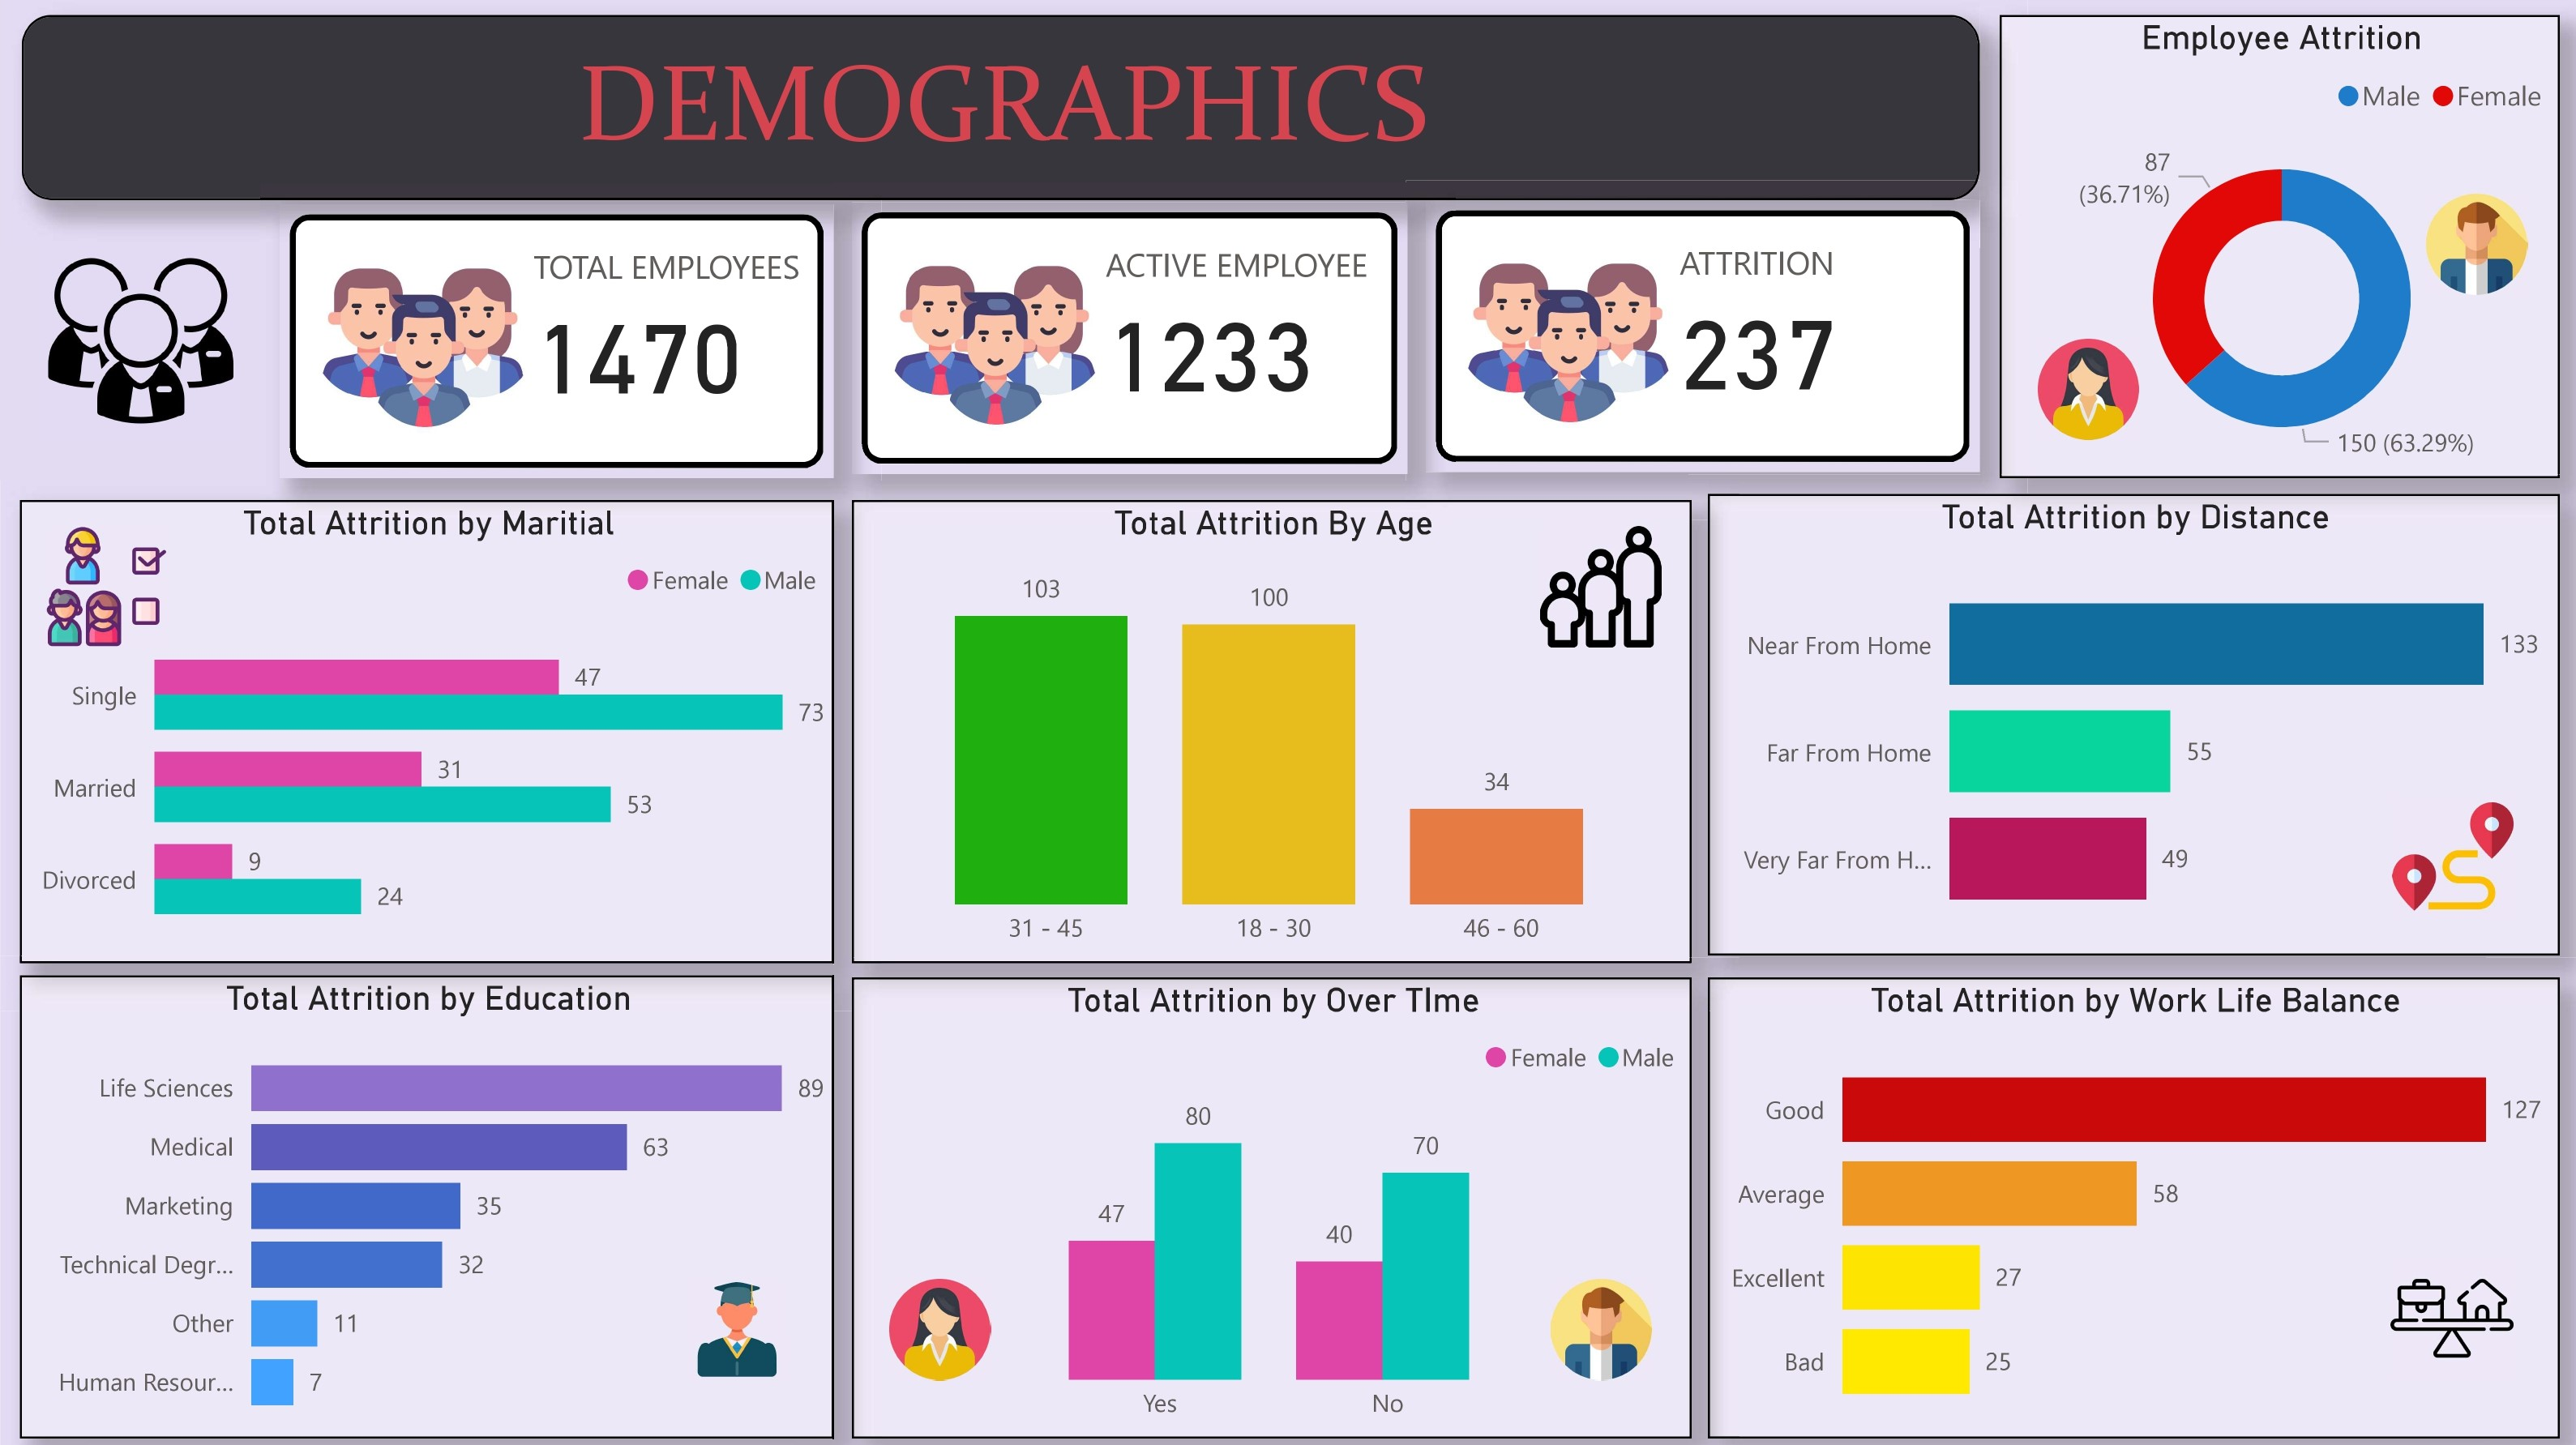

What the dashboard file says about the page in this screenshot:
{"tool":"powerbi","page":{"name":"Demographics","canvas":[1280,720],"ordinal":1},"visuals":[{"type":"textbox","box":[10.5,8.4,972.3,91.4],"z":0},{"type":"cardVisual","fields":{"Data":["CountNonNull(HR-Employee-Attrition.Age)"]},"box":[139,102,274.6,135.6],"z":1000},{"type":"image","box":[0,115.9,139,107.8],"z":2000},{"type":"cardVisual","fields":{"Data":["CountNonNull(HR-Employee-Attrition.Attrition)"]},"box":[708,99.7,274.6,135.6],"z":3000},{"type":"cardVisual","fields":{"Data":["CountNonNull(HR-Employee-Attrition.Attrition)"]},"box":[423,100.8,275.8,135.6],"z":4000},{"type":"clusteredBarChart","title":"Total Attrition by Maritial","fields":{"Y":["Sum(HR-Employee-Attrition.Attrition in Number)"],"Category":["HR-Employee-Attrition.MaritalStatus"],"Series":["HR-Employee-Attrition.Gender"]},"box":[10.4,249.1,403.2,230],"z":5000},{"type":"clusteredBarChart","title":"Total Attrition by Education","fields":{"Y":["Sum(HR-Employee-Attrition.Attrition in Number)"],"Category":["HR-Employee-Attrition.EducationField"]},"box":[10.4,485,403.2,230],"z":6000},{"type":"donutChart","title":"Employee Attrition","fields":{"Y":["Sum(HR-Employee-Attrition.Attrition in Number)"],"Category":["HR-Employee-Attrition.Gender"]},"box":[993.3,8.4,277.5,229.1],"z":7000},{"type":"barChart","title":"Total Attrition by Distance","fields":{"Category":["HR-Employee-Attrition.DistanceFromHome (groups)"],"Y":["Sum(HR-Employee-Attrition.Attrition in Number)"]},"box":[848.2,245.7,422.9,229.4],"z":8000},{"type":"barChart","title":"Total Attrition by Work Life Balance","fields":{"Y":["Sum(HR-Employee-Attrition.Attrition in Number)"],"Category":["HR-Employee-Attrition.WorkLifeBalance (groups)"]},"box":[848.2,485.5,422.9,229.4],"z":9000},{"type":"columnChart","title":"Total Attrition By Age","fields":{"Category":["HR-Employee-Attrition.Age (groups)"],"Y":["Sum(HR-Employee-Attrition.Attrition in Number)"]},"box":[422.9,249.1,417,229.4],"z":10000},{"type":"clusteredColumnChart","title":"Total Attrition by Over TIme","fields":{"Category":["HR-Employee-Attrition.OverTime"],"Y":["Sum(HR-Employee-Attrition.Attrition in Number)"],"Series":["HR-Employee-Attrition.Gender"]},"box":[422.5,485.6,417.3,229.1],"z":11000},{"type":"image","box":[1006.9,164,59.9,59.9],"z":11001},{"type":"image","box":[1200.4,92.5,59.9,59.9],"z":11002},{"type":"image","box":[336.4,630.7,59.9,59.9],"z":11003},{"type":"image","box":[1182.5,620.1,70.4,70.4],"z":11004},{"type":"image","box":[759.9,256.5,70.4,70.4],"z":11005},{"type":"image","box":[1182.5,391,70.4,70.4],"z":11006},{"type":"image","box":[17.9,256.5,70.4,70.4],"z":11007},{"type":"image","box":[437.3,630.7,59.9,59.9],"z":11008},{"type":"image","box":[765.2,630.7,59.9,59.9],"z":11009}]}

Visuals, with their boxes in screenshot pixels (x1, y1, x2, y2), scaled from the page's 1280x720 canvas onto the 2576x1445 screenshot:
textbox: {"x1": 21, "y1": 17, "x2": 1978, "y2": 200}
cardVisual - CountNonNull(HR-Employee-Attrition.Age): {"x1": 280, "y1": 205, "x2": 832, "y2": 477}
image: {"x1": 0, "y1": 233, "x2": 280, "y2": 449}
cardVisual - CountNonNull(HR-Employee-Attrition.Attrition): {"x1": 1425, "y1": 200, "x2": 1978, "y2": 472}
cardVisual - CountNonNull(HR-Employee-Attrition.Attrition): {"x1": 851, "y1": 203, "x2": 1406, "y2": 474}
"Total Attrition by Maritial" clusteredBarChart: {"x1": 21, "y1": 500, "x2": 832, "y2": 961}
"Total Attrition by Education" clusteredBarChart: {"x1": 21, "y1": 973, "x2": 832, "y2": 1435}
"Employee Attrition" donutChart: {"x1": 1999, "y1": 17, "x2": 2557, "y2": 477}
"Total Attrition by Distance" barChart: {"x1": 1707, "y1": 493, "x2": 2558, "y2": 954}
"Total Attrition by Work Life Balance" barChart: {"x1": 1707, "y1": 974, "x2": 2558, "y2": 1434}
"Total Attrition By Age" columnChart: {"x1": 851, "y1": 500, "x2": 1690, "y2": 960}
"Total Attrition by Over TIme" clusteredColumnChart: {"x1": 850, "y1": 975, "x2": 1690, "y2": 1434}
image: {"x1": 2026, "y1": 329, "x2": 2147, "y2": 449}
image: {"x1": 2416, "y1": 186, "x2": 2536, "y2": 306}
image: {"x1": 677, "y1": 1266, "x2": 798, "y2": 1386}
image: {"x1": 2380, "y1": 1245, "x2": 2522, "y2": 1386}
image: {"x1": 1530, "y1": 515, "x2": 1671, "y2": 656}
image: {"x1": 2380, "y1": 784, "x2": 2522, "y2": 926}
image: {"x1": 36, "y1": 515, "x2": 178, "y2": 656}
image: {"x1": 880, "y1": 1266, "x2": 1000, "y2": 1386}
image: {"x1": 1540, "y1": 1266, "x2": 1661, "y2": 1386}
